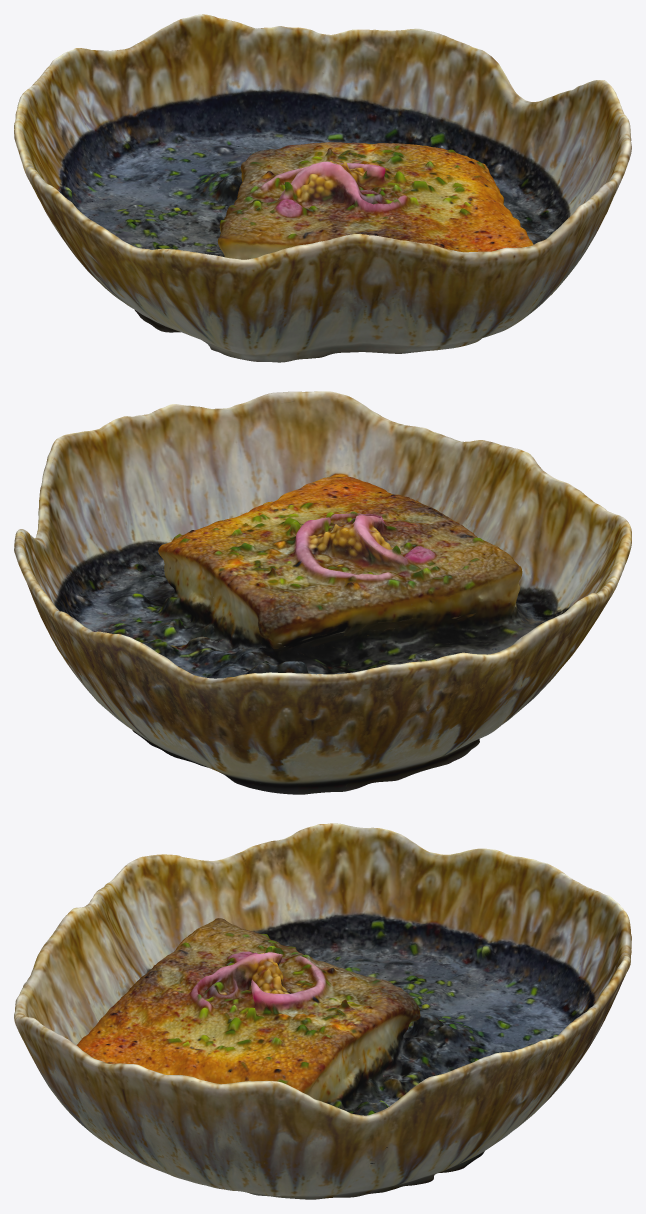
The model's file is cabillaud.glb.
The picture shows the model from 3 angles, top to bottom: view 1: azimuth 30°, elevation 25°; view 2: azimuth 150°, elevation 25°; view 3: azimuth 270°, elevation 25°; orthographic projection. The views are drawn at different scales.
Visible parts, largest first — view 1: _03D38815_751D_4361_B3C8_A6E3B43F4864; view 2: _03D38815_751D_4361_B3C8_A6E3B43F4864; view 3: _03D38815_751D_4361_B3C8_A6E3B43F4864.
Boxes of the visible parts, x1=… form: _03D38815_751D_4361_B3C8_A6E3B43F4864: x1=14, y1=14, x2=631, y2=362; _03D38815_751D_4361_B3C8_A6E3B43F4864: x1=14, y1=391, x2=631, y2=794; _03D38815_751D_4361_B3C8_A6E3B43F4864: x1=14, y1=823, x2=631, y2=1199.
Bounding box in the file's own units: 0.3545 × 0.1065 × 0.3512.
Materials: 1 (1 with a texture image).
